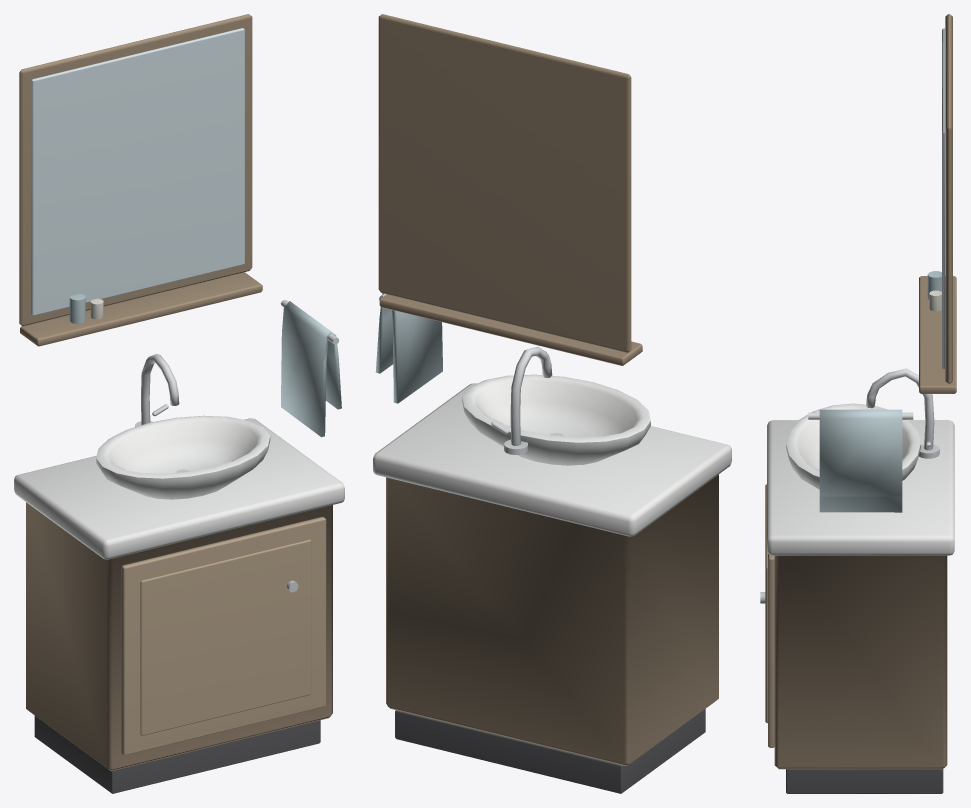
The model's file is sink.glb.
3 renders of one model, left to right at view 1: azimuth 30°, elevation 25°; view 2: azimuth 150°, elevation 25°; view 3: azimuth 270°, elevation 25°, orthographic. The views are drawn at different scales.
Parts seen in each view (by area): view 1: furn_sink; view 2: furn_sink; view 3: furn_sink.
Boxes of the visible parts, x1,y1,x2,y2 form: furn_sink: (14,14,344,793); furn_sink: (373,14,731,793); furn_sink: (760,14,956,793).
Size of the model in its own units: 0.8166 by 1.98 by 0.523.
